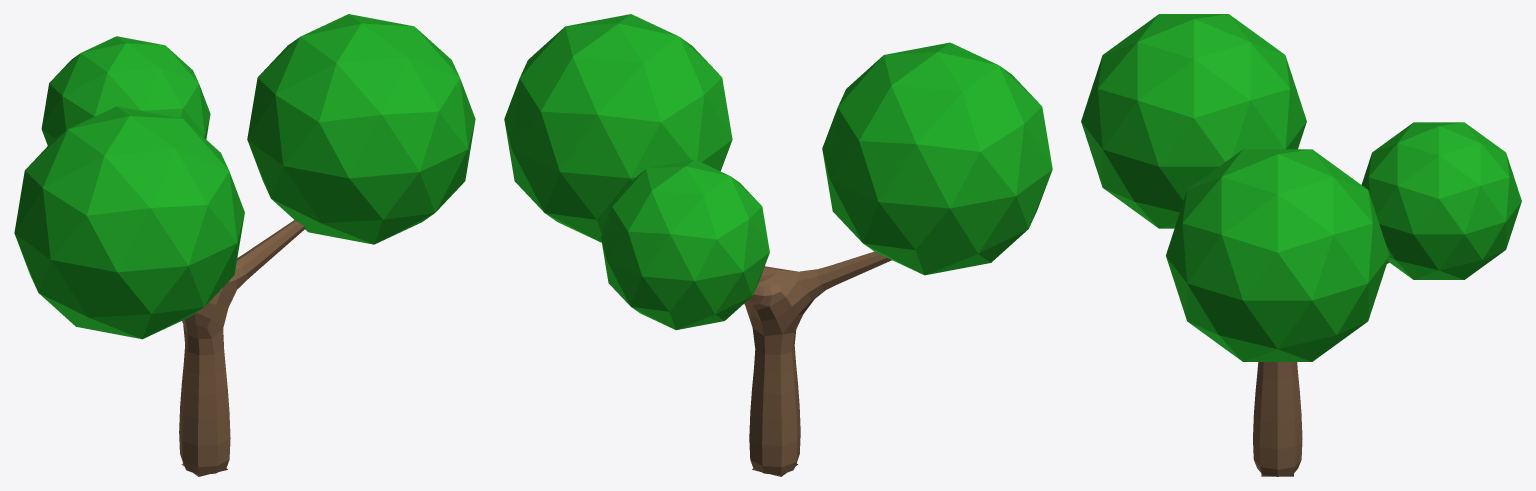
The model's file is low poly tree.fbx.
3 views of the same model, side by side, from view 1: azimuth 30°, elevation 25°; view 2: azimuth 150°, elevation 25°; view 3: azimuth 270°, elevation 25° (orthographic). The views are drawn at different scales.
Visible parts, largest first — view 1: treepart2, treepart1, treepart3, tree; view 2: treepart2, treepart1, treepart3, tree; view 3: treepart1, treepart2, treepart3, tree.
Part boxes in pixels (x1,y1,x2,y2): treepart2: (14, 106, 244, 339); treepart1: (247, 14, 475, 244); treepart3: (41, 36, 210, 145); tree: (179, 220, 305, 476); treepart2: (822, 42, 1052, 275); treepart1: (504, 14, 732, 242); treepart3: (601, 159, 769, 329); tree: (744, 251, 891, 476); treepart1: (1166, 149, 1389, 361); treepart2: (1081, 14, 1306, 228); treepart3: (1361, 122, 1521, 279); tree: (1253, 261, 1389, 476).
Bounding box in the file's own units: 868 × 729 × 738.
